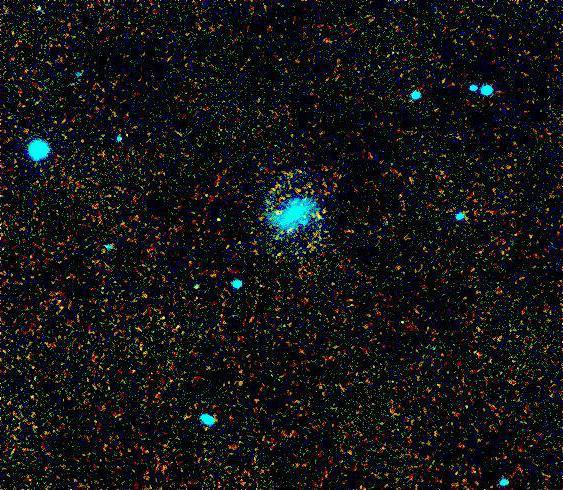star: (266, 197, 296, 227)
